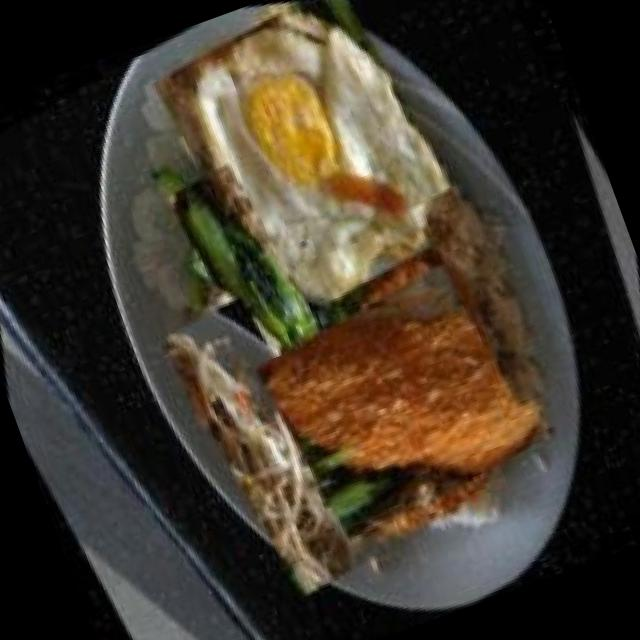fried_chicken: (187, 180, 622, 616)
fried_eggs: (79, 0, 546, 400)
mung_bean_sprouts: (89, 240, 451, 640)
rice: (358, 142, 620, 448)
water_spinach: (107, 118, 400, 453)
